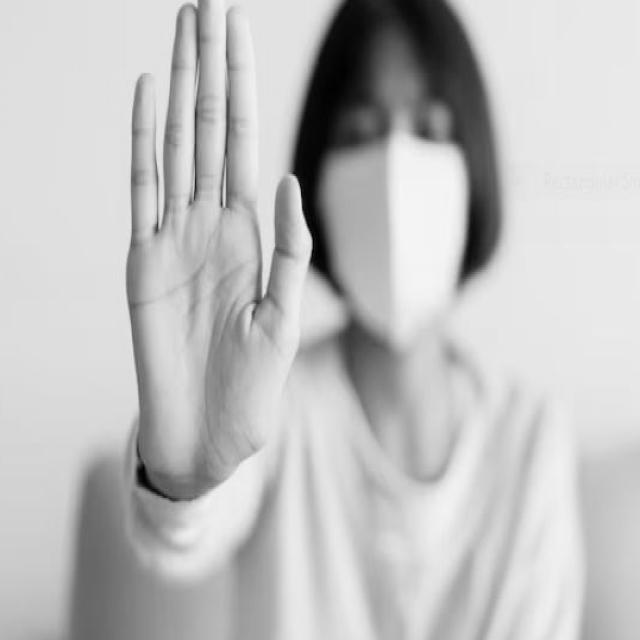stop: (119, 0, 318, 507)
